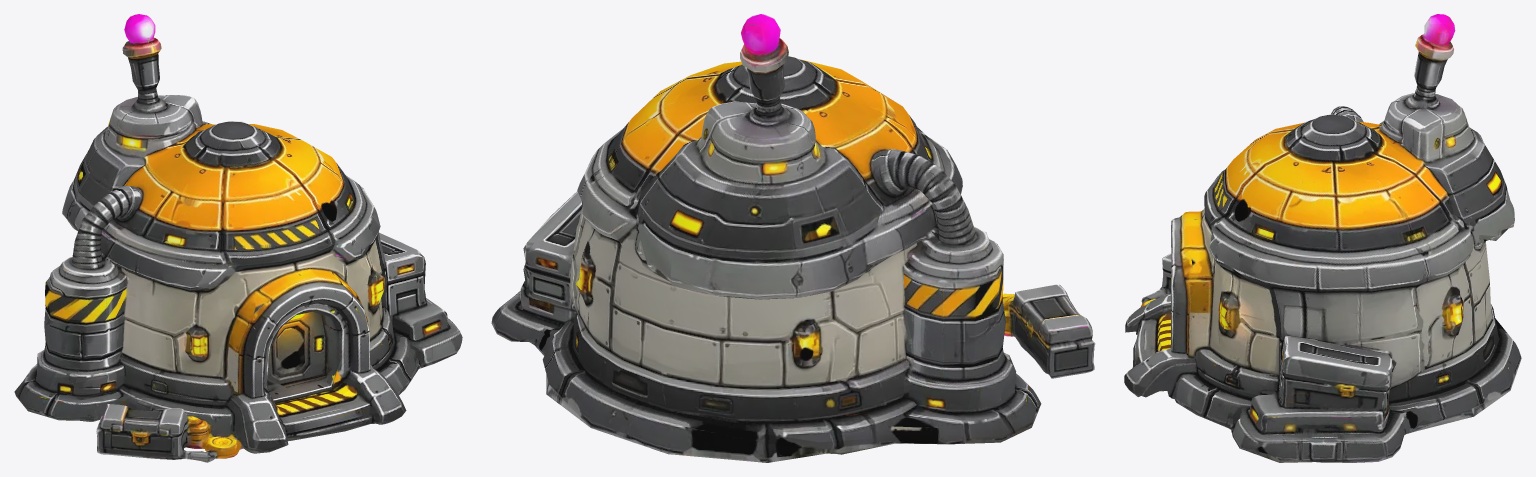
File: builders_hut.glb
The picture shows the model from 3 angles, left to right: view 1: azimuth 30°, elevation 25°; view 2: azimuth 150°, elevation 25°; view 3: azimuth 270°, elevation 25°; orthographic projection. The views are drawn at different scales.
Parts seen in each view (by area): view 1: Mesh0; view 2: Mesh0; view 3: Mesh0.
Boxes of the visible parts, x1,y1,x2,y2 form: Mesh0: (14, 14, 462, 462); Mesh0: (491, 14, 1095, 462); Mesh0: (1124, 14, 1521, 462).
Bounding box in the file's own units: 1.89 × 1.44 × 1.57.
1 material, 1 textured.
